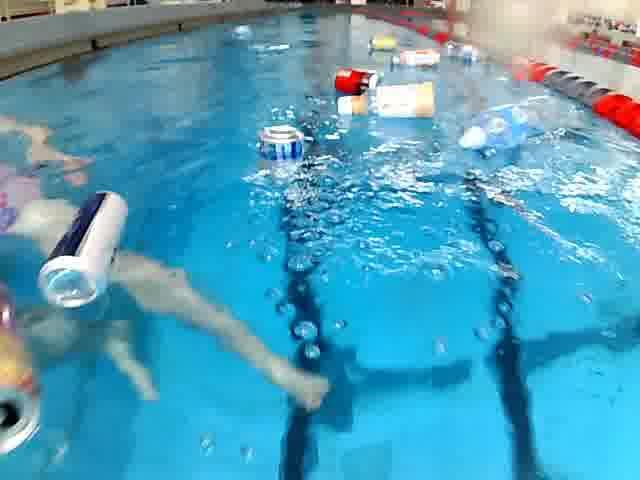Bottle: (338, 78, 438, 124)
Can: (36, 188, 132, 312), (0, 320, 43, 464), (259, 122, 307, 168)
